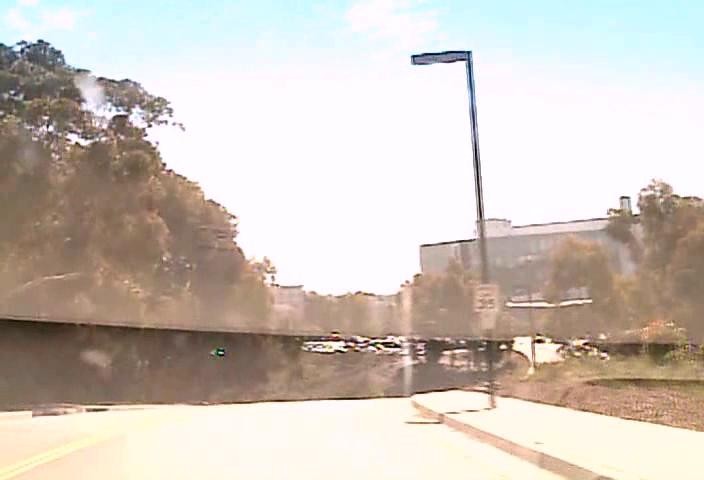speedLimit35: (473, 282, 498, 313)
